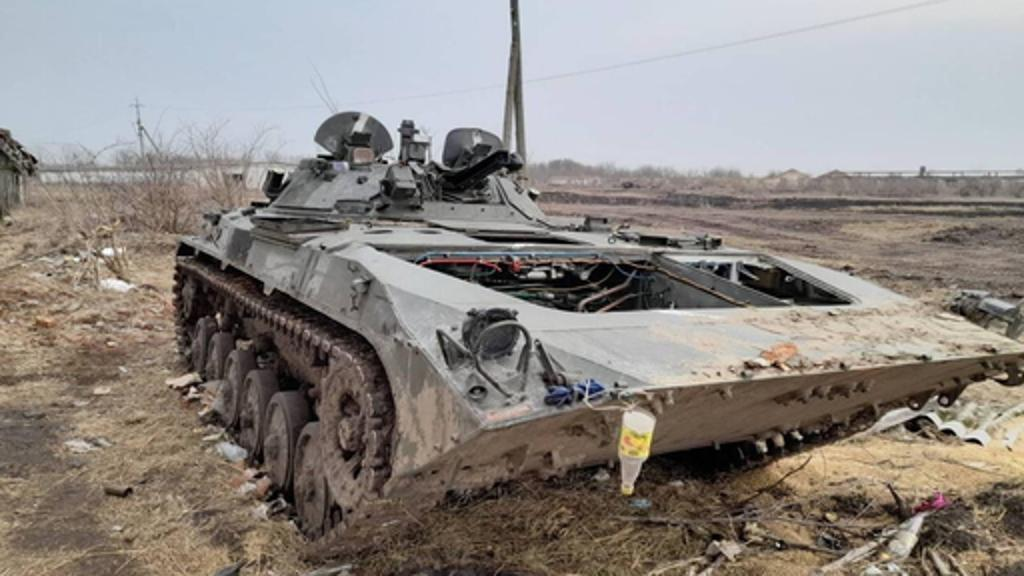APC-IFV: (150, 102, 1018, 546)
